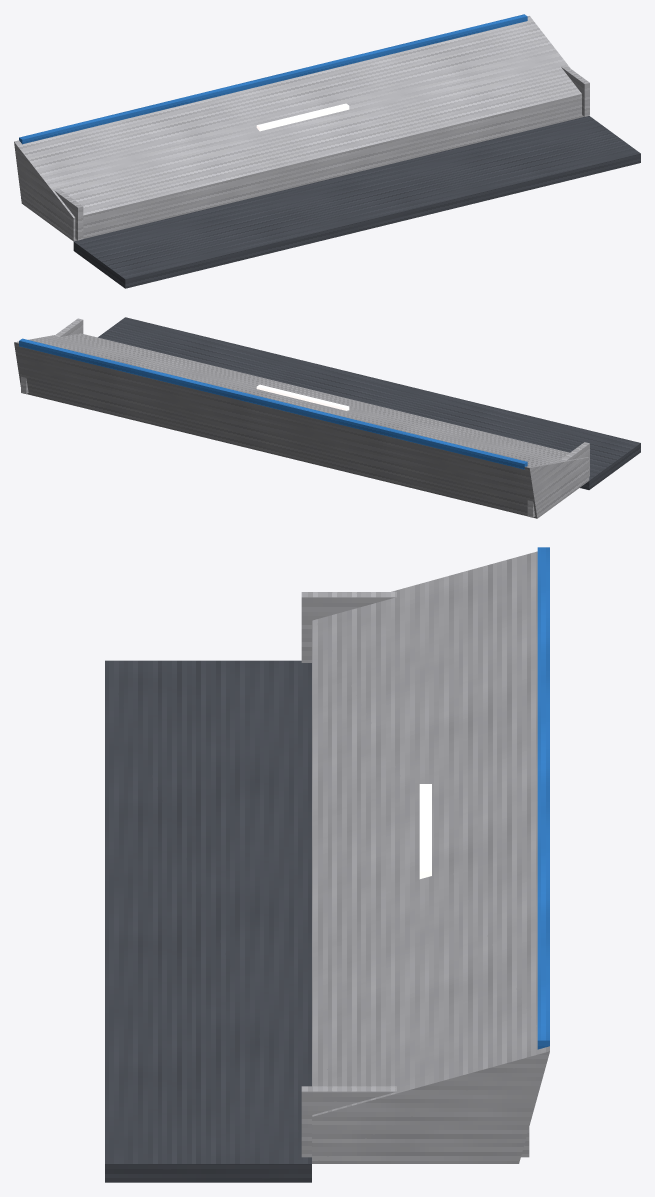
File: aerofolio_n2.glb
3 renders of one model, top to bottom at view 1: azimuth 30°, elevation 25°; view 2: azimuth 150°, elevation 25°; view 3: azimuth 270°, elevation 25°, orthographic. The views are drawn at different scales.
Parts seen in each view (by area): view 1: aerofolio_n2; view 2: aerofolio_n2; view 3: aerofolio_n2.
Boxes of the visible parts, box(x1,y1,x2,y2) form: aerofolio_n2: box(14, 14, 640, 288); aerofolio_n2: box(14, 317, 640, 518); aerofolio_n2: box(105, 547, 549, 1182).
Bounding box in the file's own units: 1.15 × 0.146 × 0.43.
2 materials, 2 textured.
